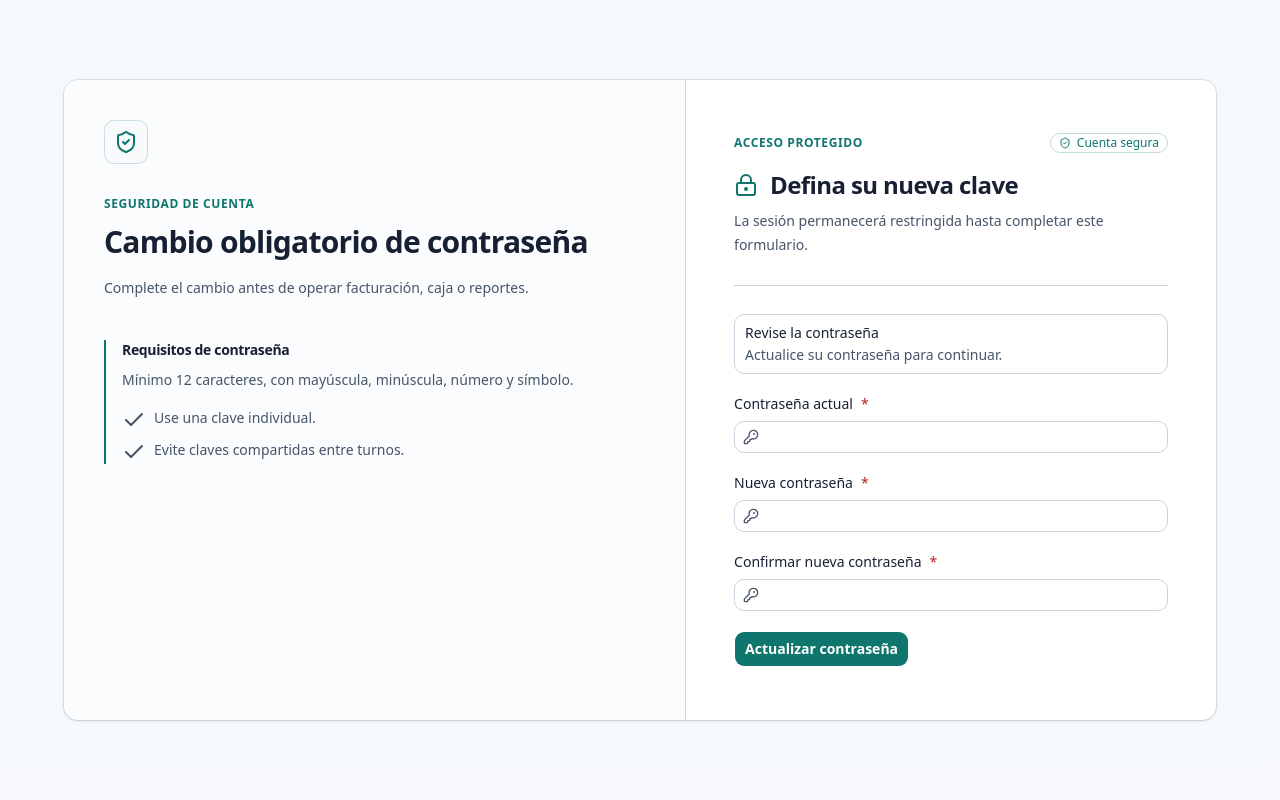
Scenario: App › shows password change errors on the required password screen
The width and height of the screenshot is (1280, 800).
Expected: the heading "Cambio obligatorio de contraseña" is shown, [104,224,616,260]
Type "wrong-password" into the password field labelled "Contraseña actual *". click: (963, 437)
box: [759,421,1167,453]
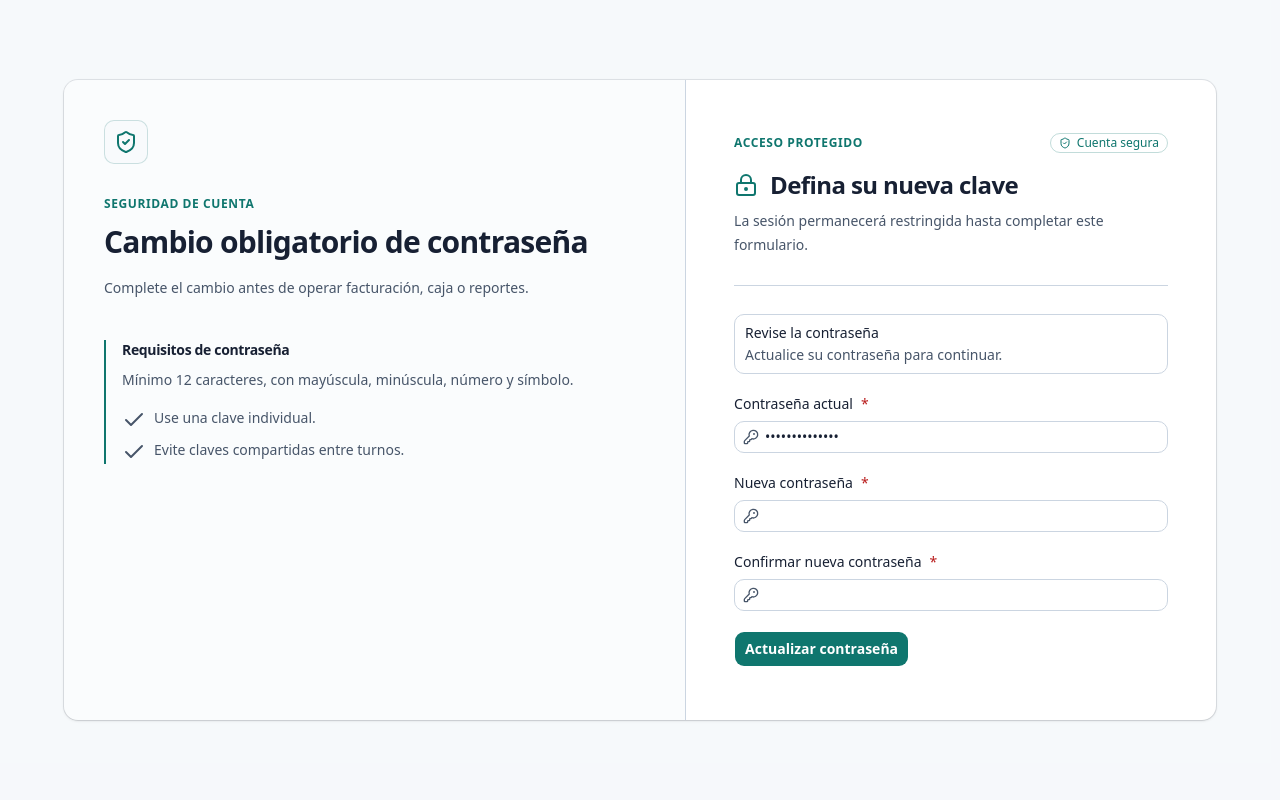
Type "NewPassword123!" into the password field labelled "Nueva contraseña *". click: (963, 516)
box: [759,500,1167,532]
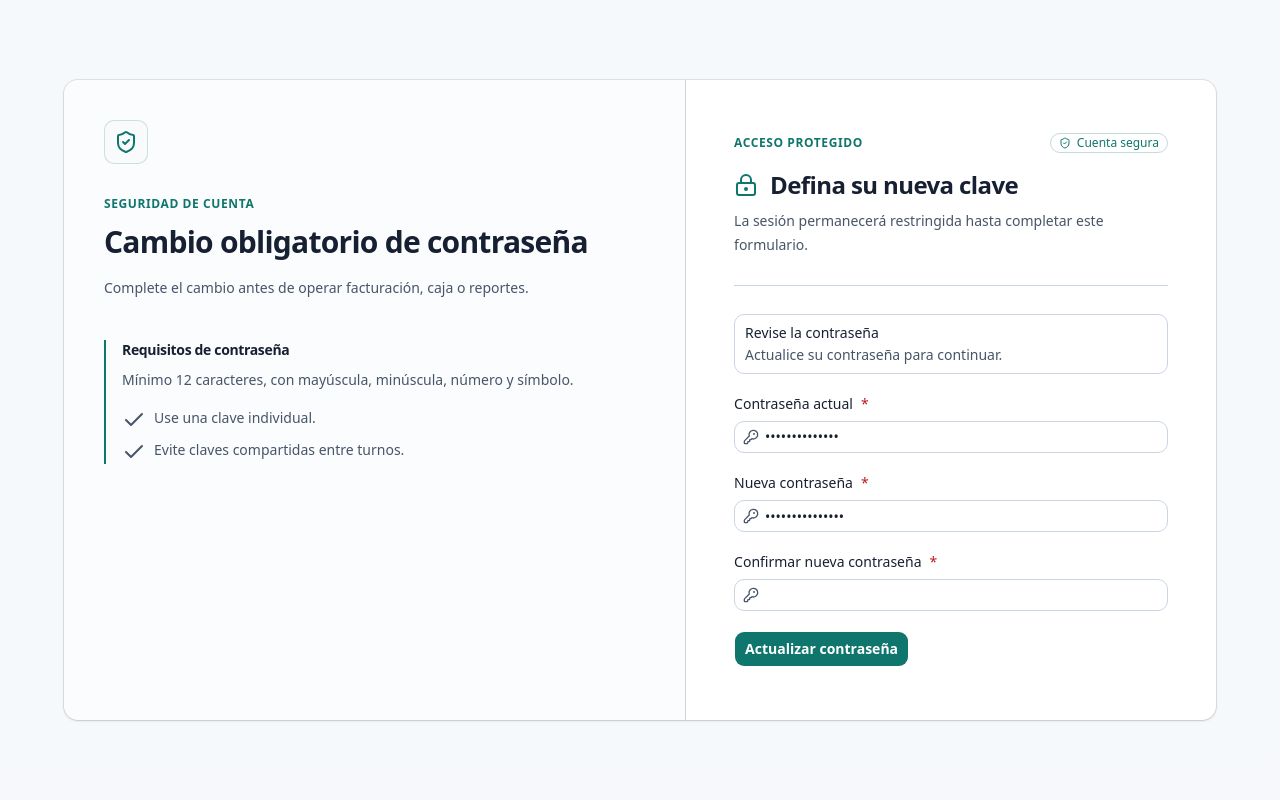
Type "NewPassword123!" into the password field labelled "Confirmar nueva contraseña *". click: (963, 595)
box: [759,579,1167,611]
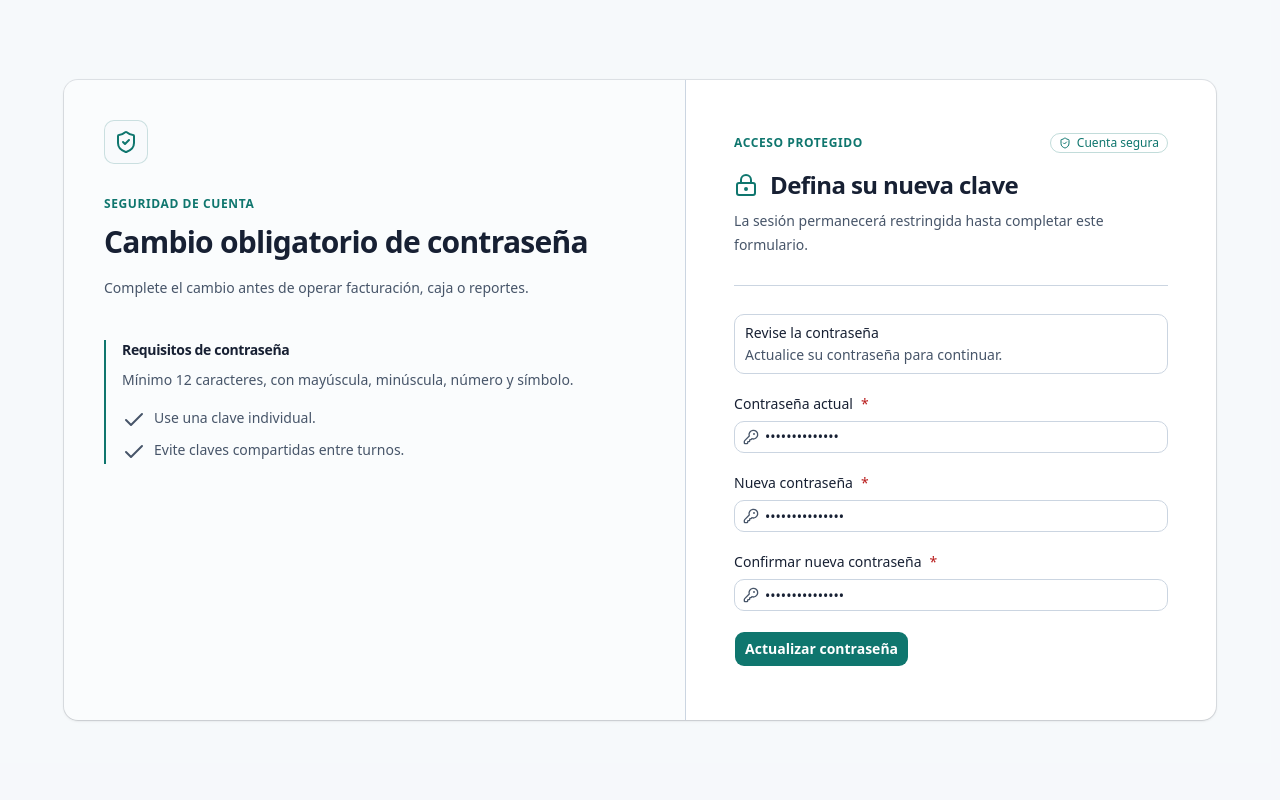
Click the button "Actualizar contraseña". click: (822, 649)
box: [734,631,909,667]
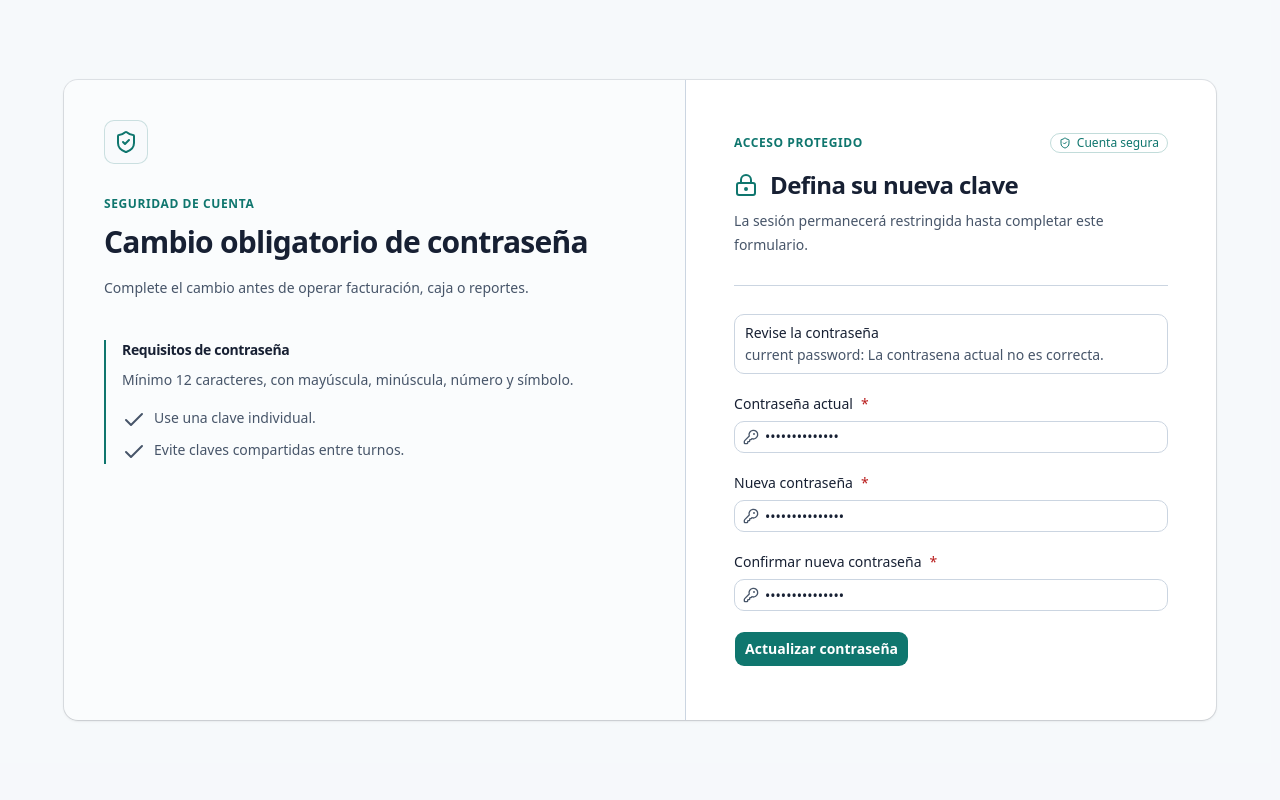
Expected: the text "current password: La contrasena actual no es correcta." is shown, [745,345,1157,365]
